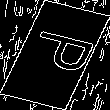P_E: (14, 29, 96, 81)
